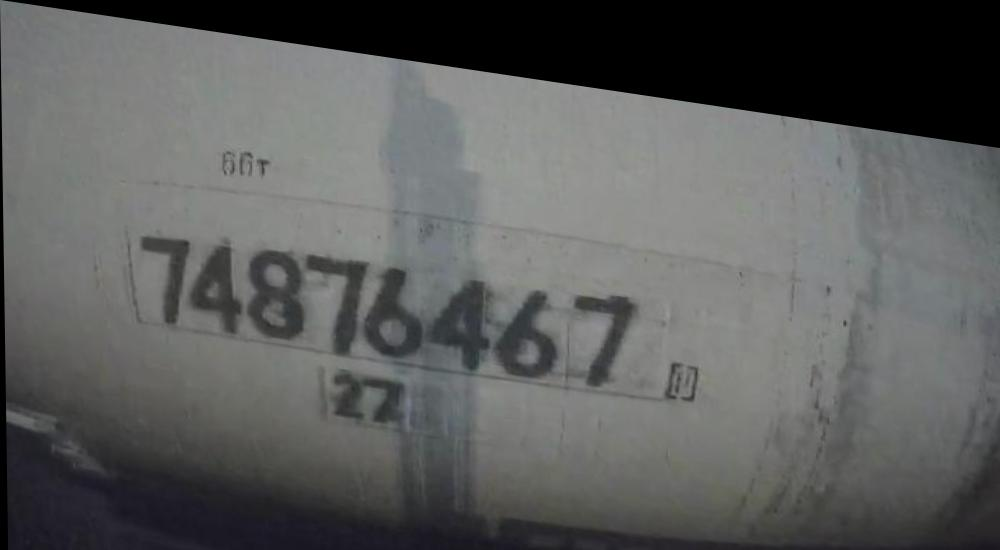Wagon-number: (131, 218, 650, 380)
